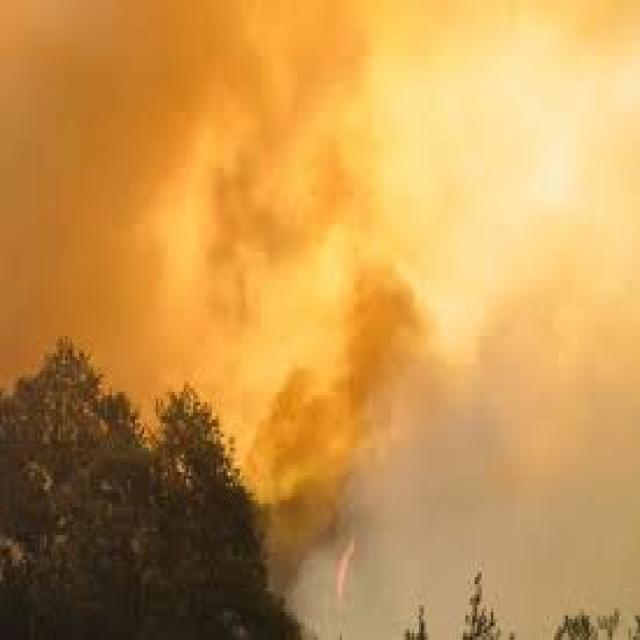Smoke: (277, 0, 639, 637), (0, 0, 539, 351)
